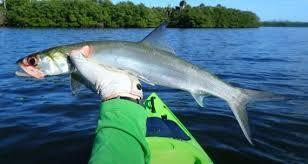Tenpounder: (16, 21, 283, 146)
